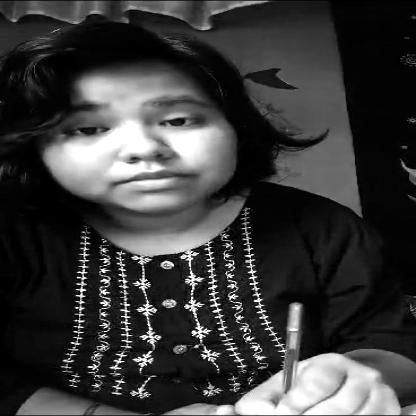Normal: (35, 33, 262, 212)
